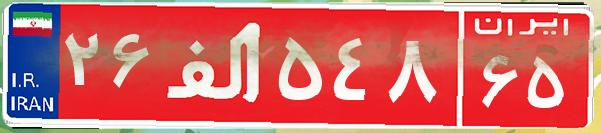2: (57, 26, 110, 107)
4: (330, 28, 385, 110)
5: (273, 28, 330, 110), (525, 38, 570, 115)
6: (475, 38, 525, 113), (110, 28, 158, 105)
8: (385, 28, 445, 110)
الف: (158, 15, 273, 115)
